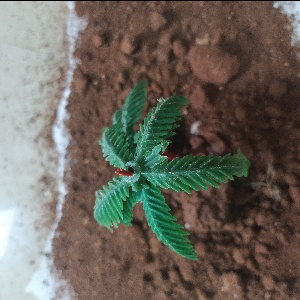plant: (79, 75, 235, 264)
